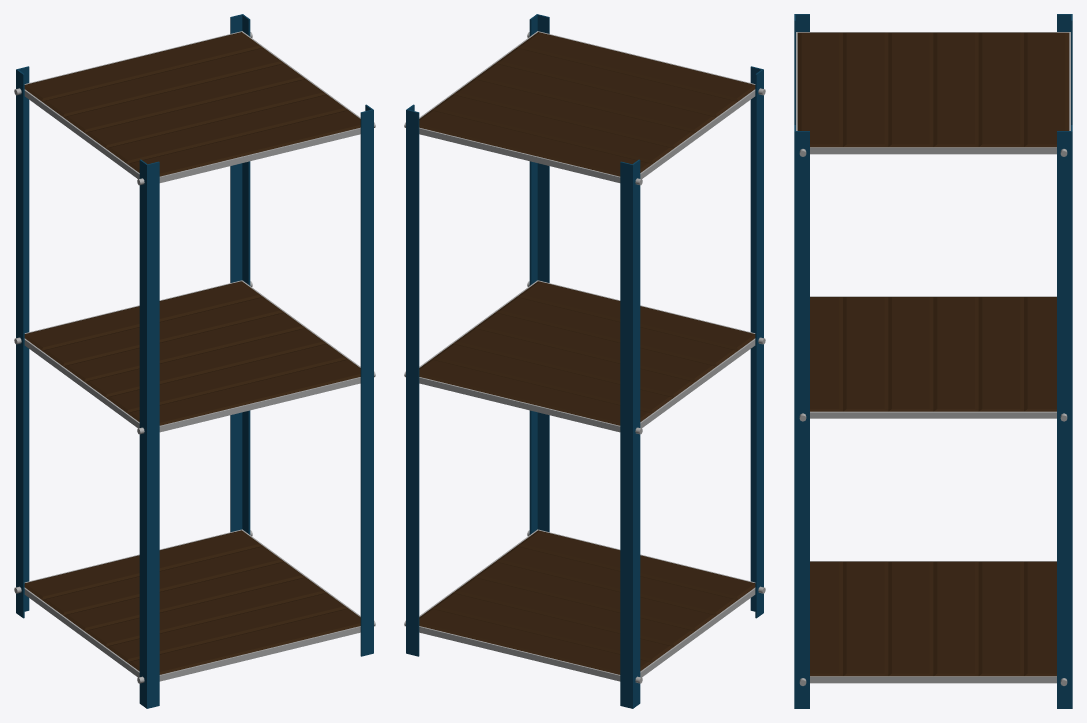
File: rack_short.fbx
The picture shows the model from 3 angles, left to right: view 1: azimuth 30°, elevation 25°; view 2: azimuth 150°, elevation 25°; view 3: azimuth 270°, elevation 25°; orthographic projection. The views are drawn at different scales.
Visible parts, largest first — view 1: rack_short; view 2: rack_short; view 3: rack_short.
Part boxes in pixels (x1,y1,x2,y2): rack_short: (14,14,375,708); rack_short: (404,14,765,708); rack_short: (794,14,1072,708).
Size of the model in its own units: 0.84 by 0.81 by 1.86.
